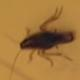cockroach: (16, 30, 76, 54)
